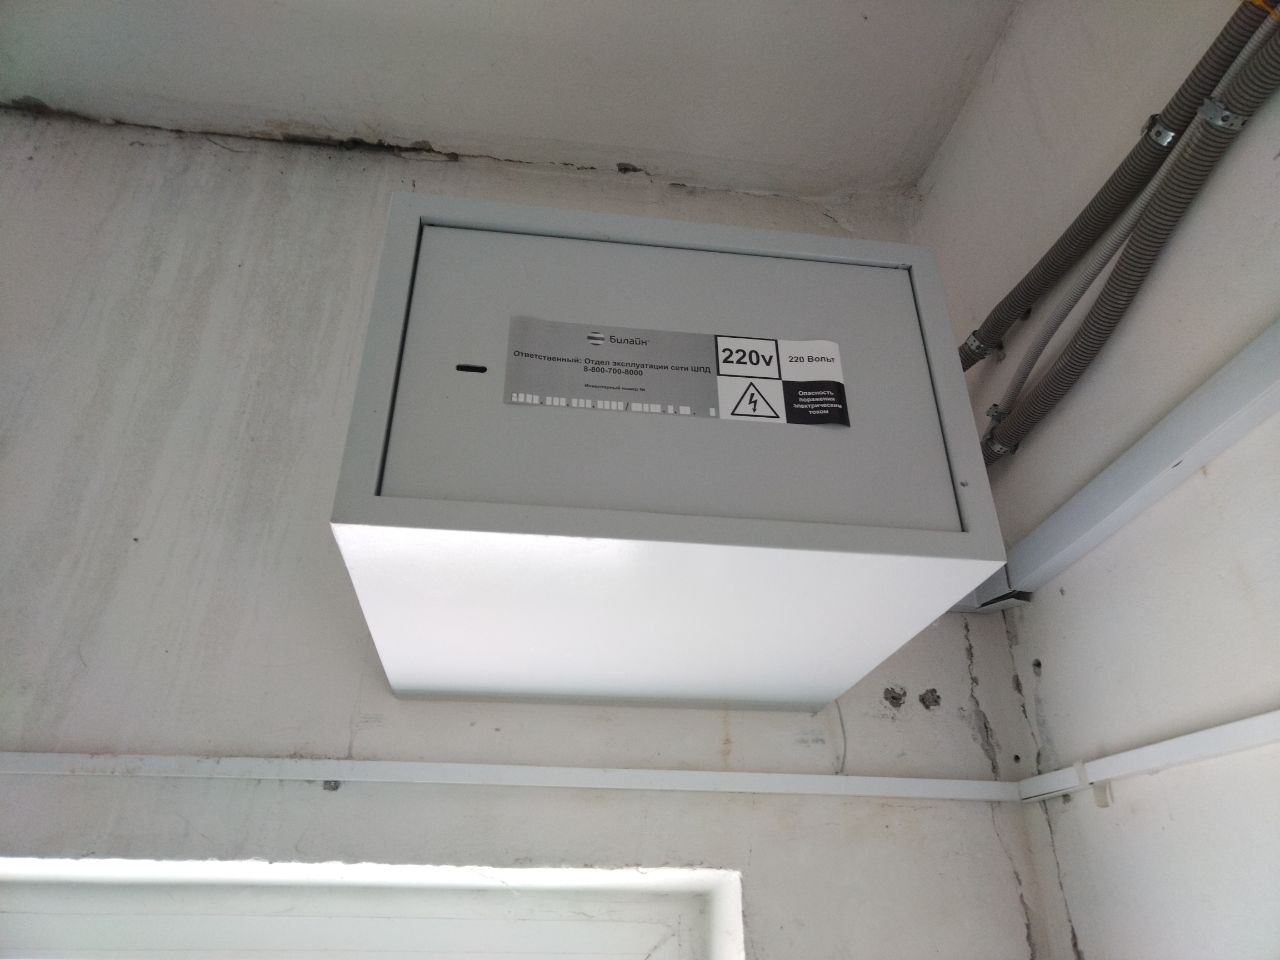shta-7m: (317, 176, 1014, 720)
